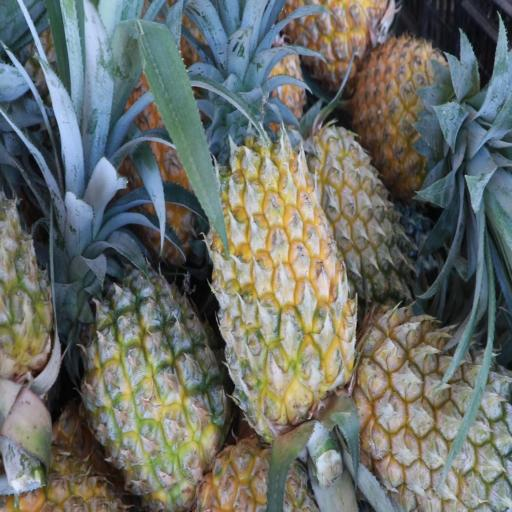Pineapple - v8 v1: (215, 144, 352, 432), (89, 271, 224, 498), (362, 34, 462, 182)
